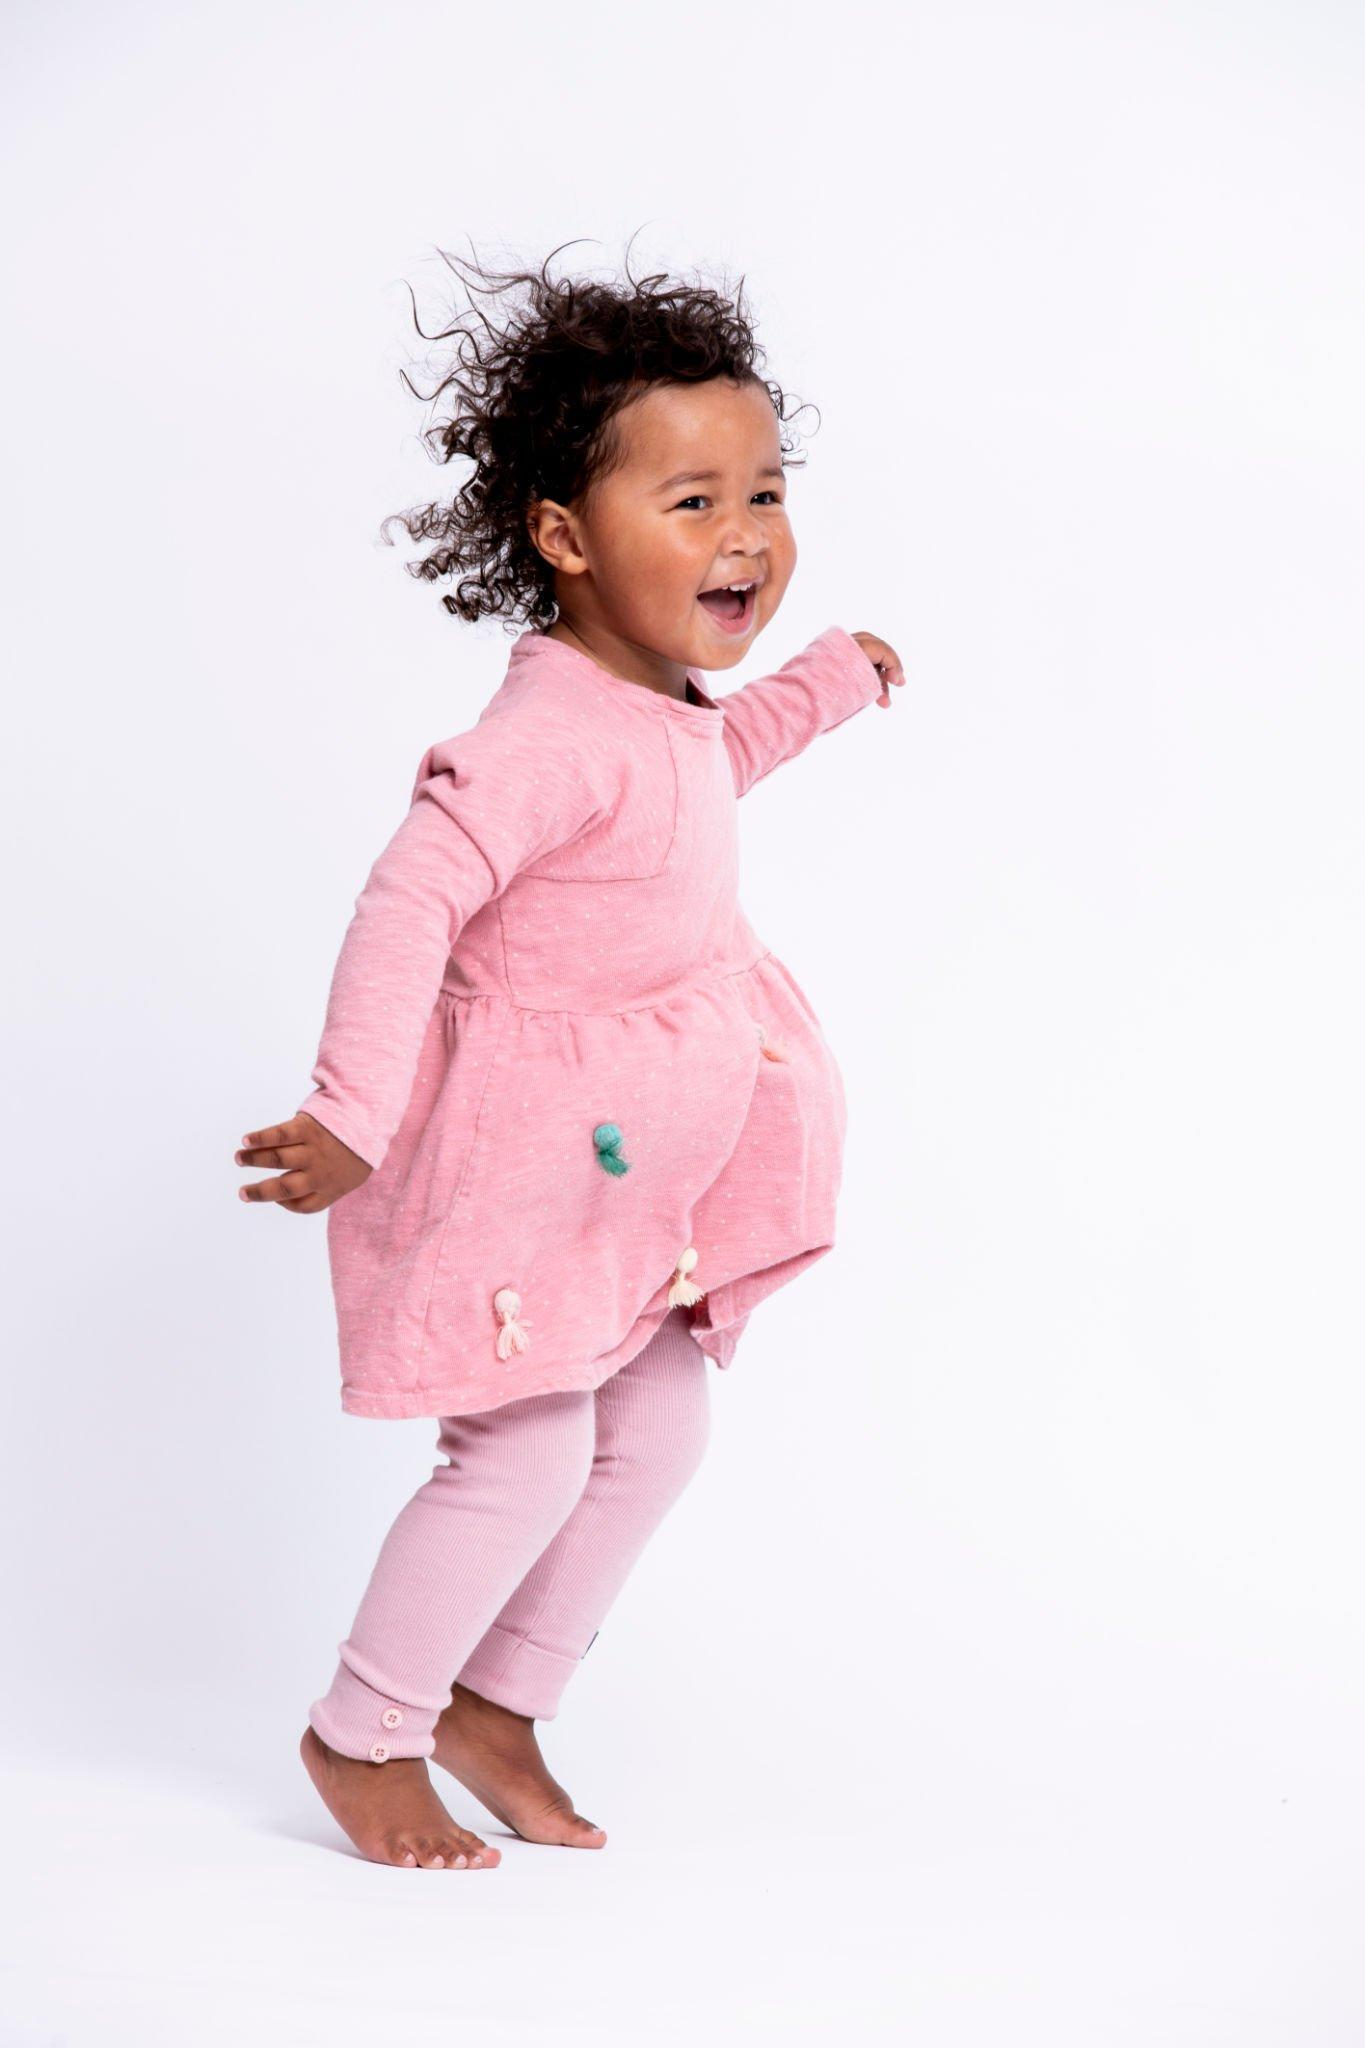Healthy: (512, 297, 826, 699)
